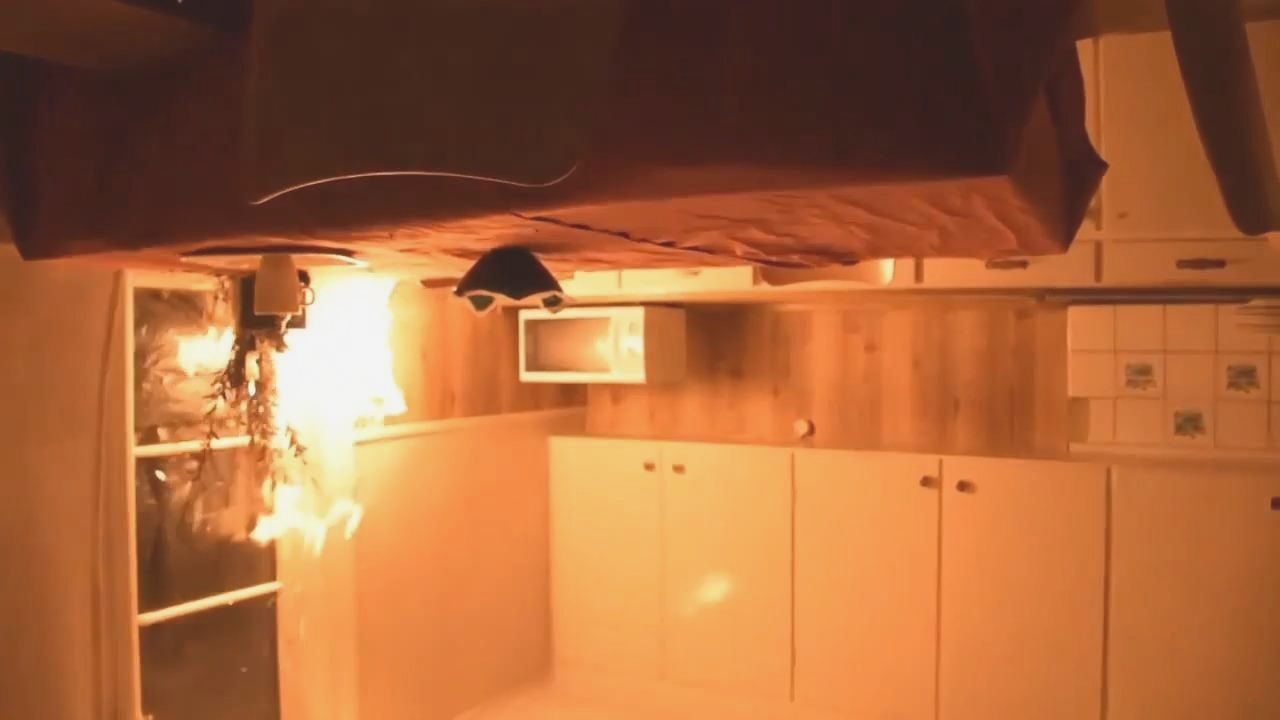fire: (156, 258, 432, 575)
